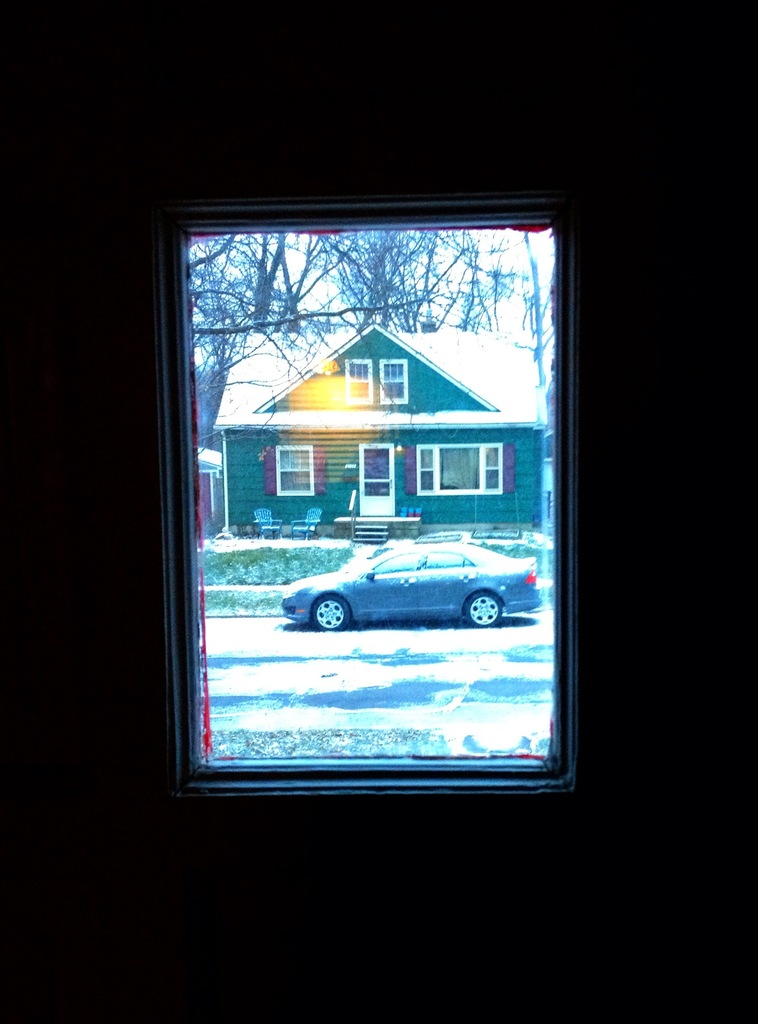Car: (279, 538, 542, 627)
